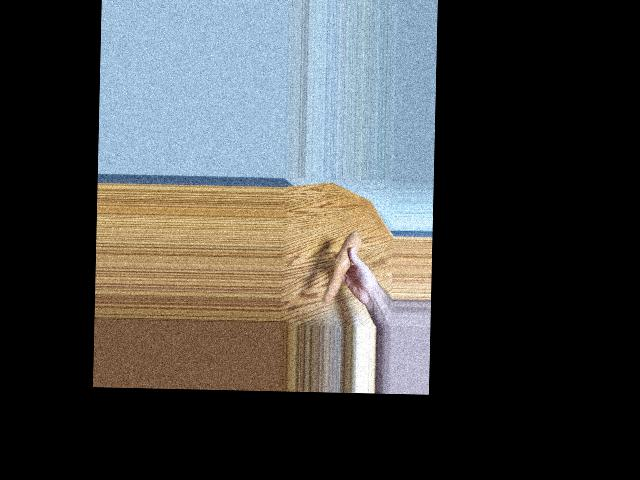sweet_potato: (327, 228, 353, 305)
